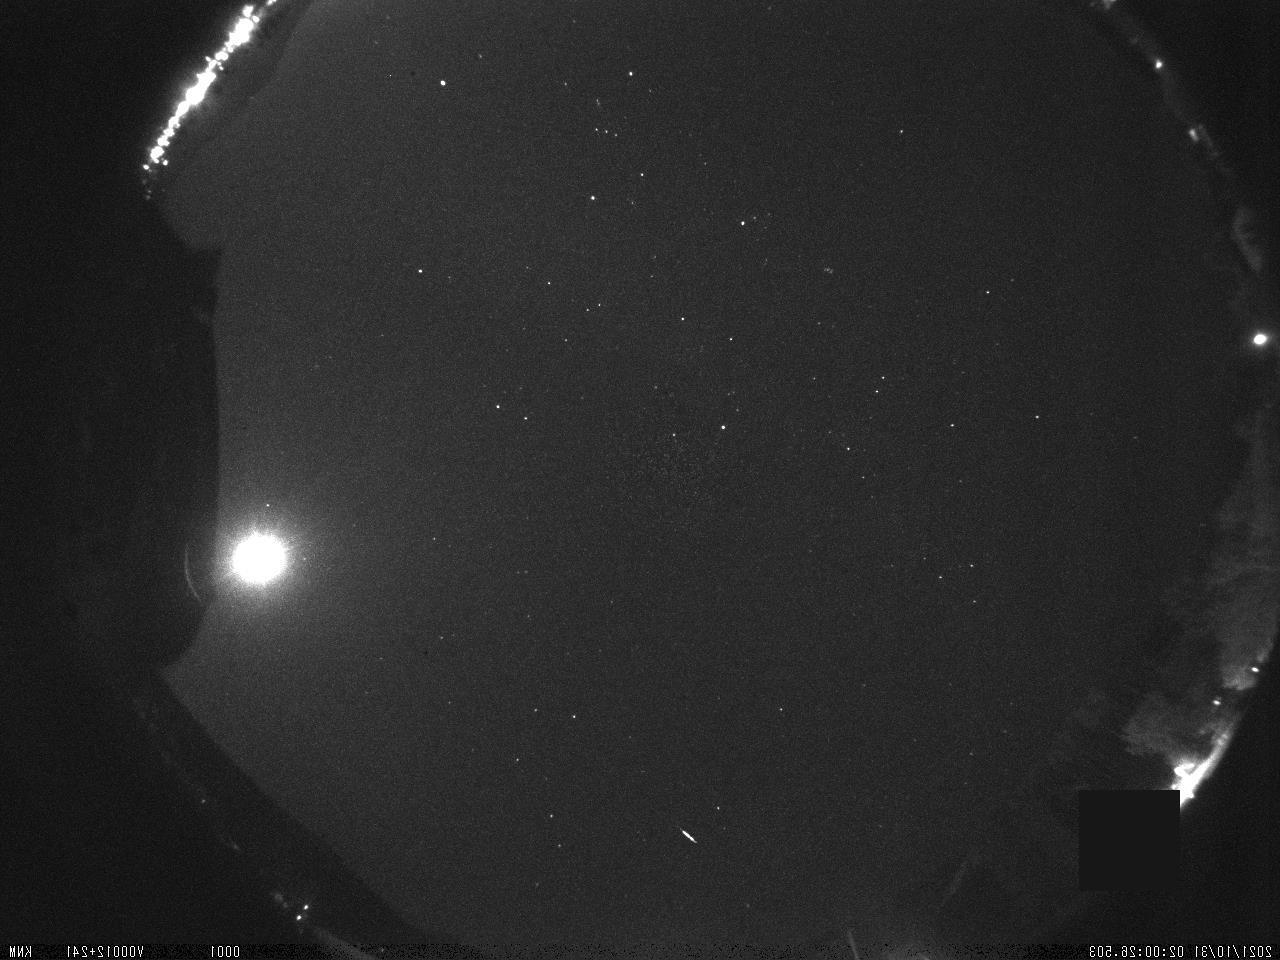meteor: (665, 810, 706, 853)
